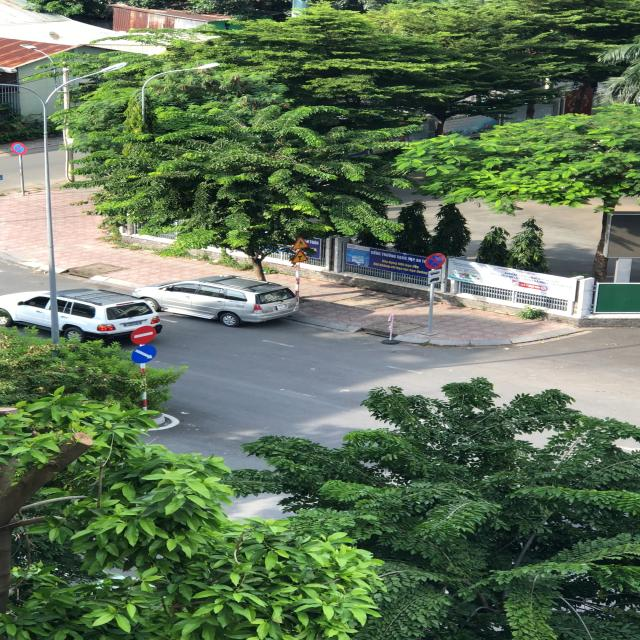Bien bao cam di nguoc chieu: (130, 325, 160, 345)
Bien bao cam dung xe va do xe: (423, 253, 451, 271)
Bien bao duong giao nhau: (289, 250, 312, 264)
Bien bao duong nguoi di bo cat ngang: (290, 236, 312, 248)
Bien bao huong phai di vong chuong ngai vat: (131, 344, 159, 364)
